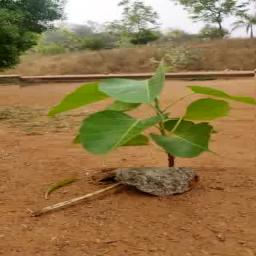LEAVS: (20, 48, 255, 168)
